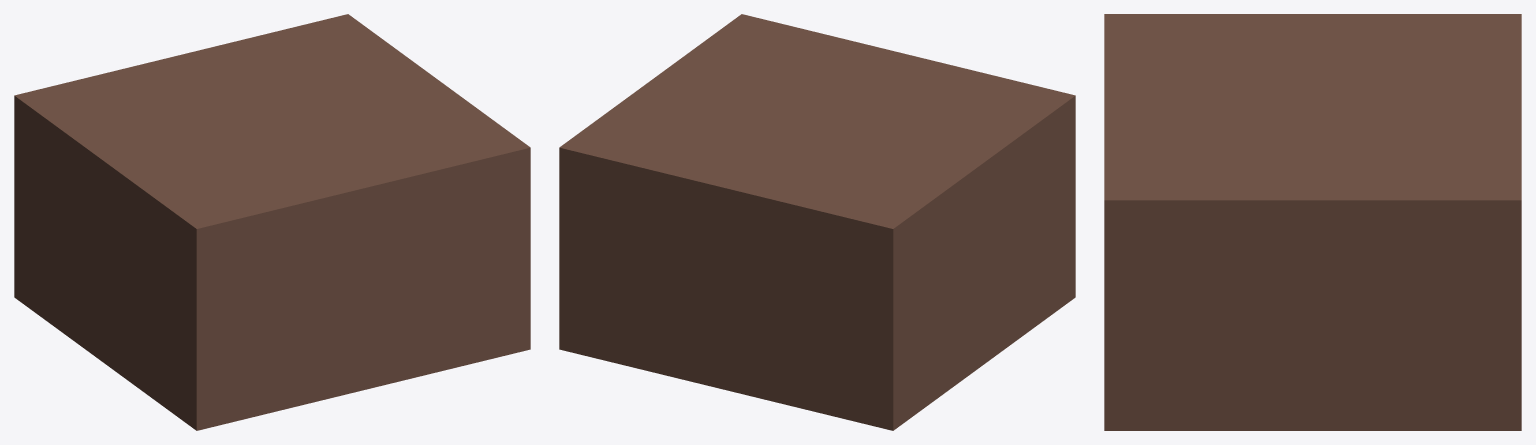
File: nature_bush_c_lod2.glb
3 views of the same model, side by side, from view 1: azimuth 30°, elevation 25°; view 2: azimuth 150°, elevation 25°; view 3: azimuth 270°, elevation 25° (orthographic). The views are drawn at different scales.
Parts seen in each view (by area): view 1: nature_bush_c_lod2; view 2: nature_bush_c_lod2; view 3: nature_bush_c_lod2.
Boxes of the visible parts, bbox=[...] form: nature_bush_c_lod2: bbox=[14, 14, 530, 430]; nature_bush_c_lod2: bbox=[559, 14, 1075, 430]; nature_bush_c_lod2: bbox=[1104, 14, 1521, 430].
Bounding box in the file's own units: 2.06 × 1.19 × 1.95.
